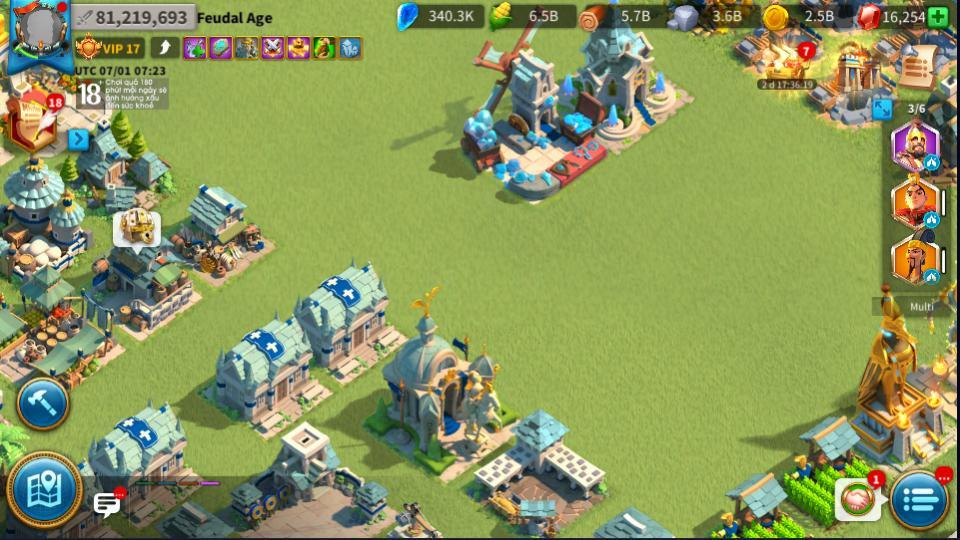march_idle: (923, 155, 939, 170), (923, 270, 939, 282), (923, 213, 938, 225)
